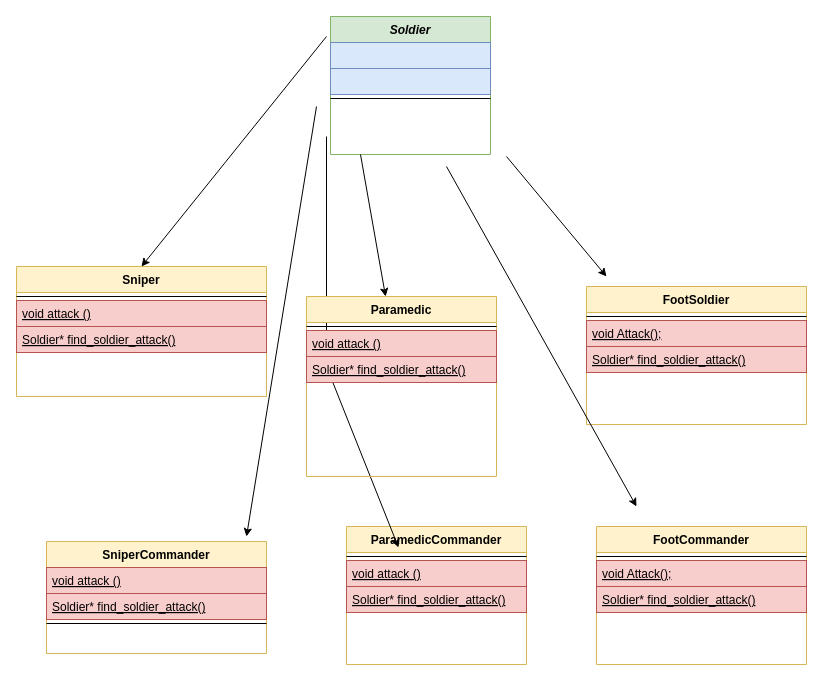
The diagram is 823 pixels wide and 681 high, and some of its shapes have lost their labels. The shapes that lost their labels are listed below. From the top down, each one's centre as x and y in pixels, then its label:
At [410,55]: "int player".
At [410,81]: "int hp;".
